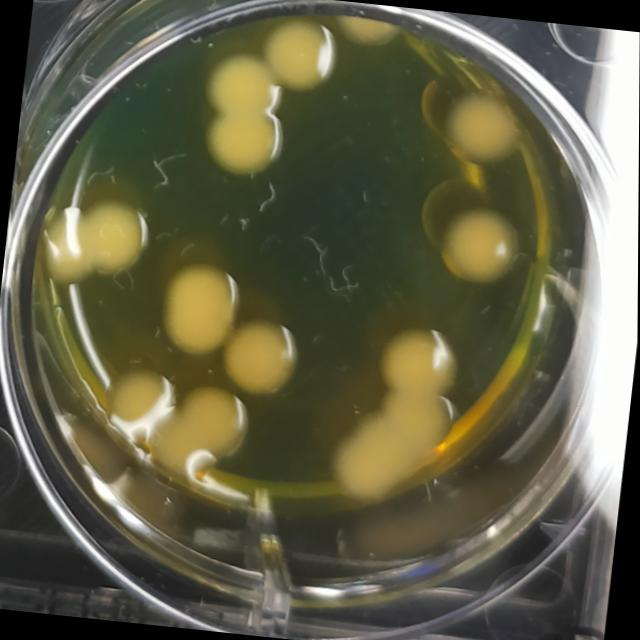vibrio: (326, 384, 457, 510), (28, 186, 159, 296), (148, 378, 257, 479), (150, 257, 246, 363), (435, 82, 526, 174), (432, 201, 520, 291), (95, 357, 184, 445), (215, 312, 302, 399), (197, 106, 288, 186), (372, 318, 461, 398), (259, 17, 342, 96), (202, 42, 289, 114)
